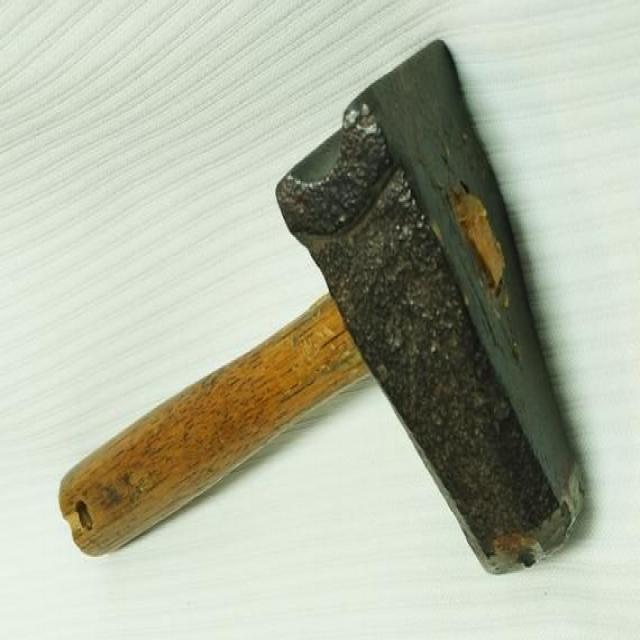hammer: (50, 33, 588, 580)
